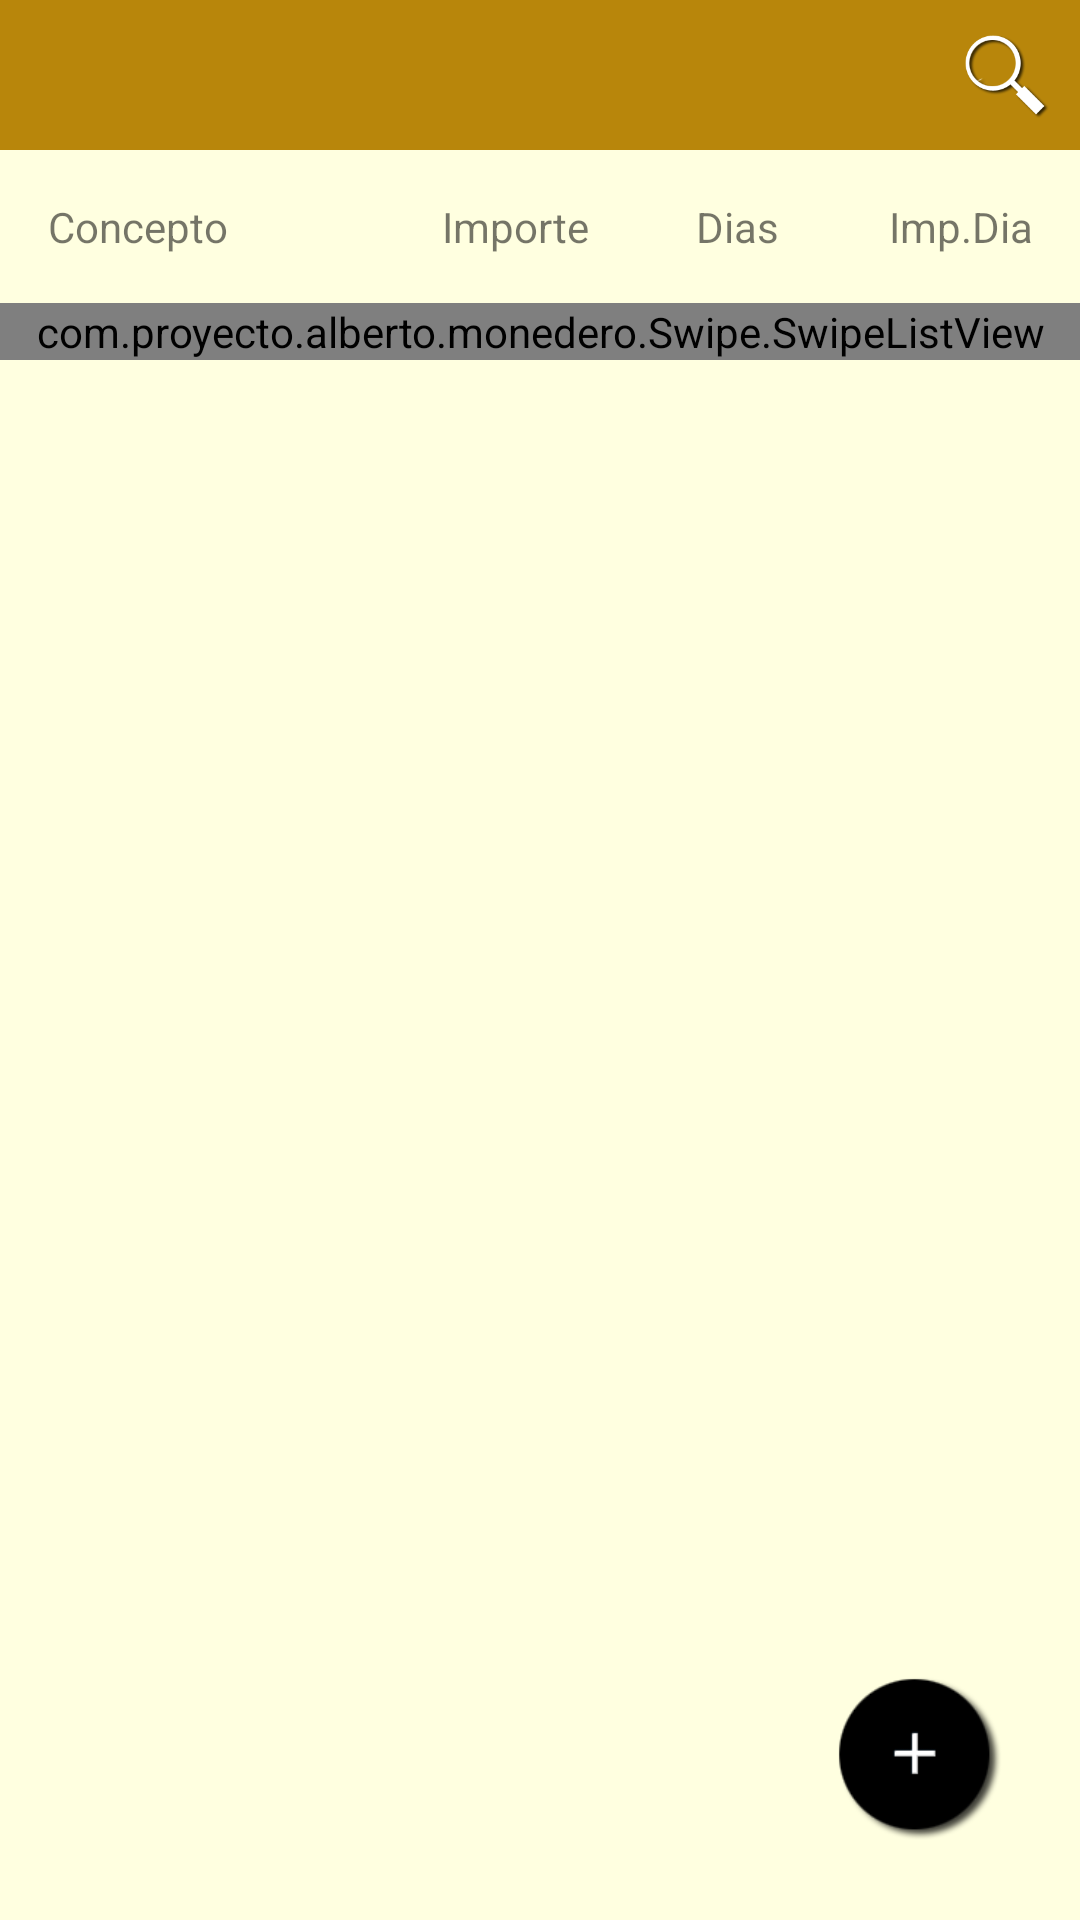

Where icons sit on this 1080px x 1920px app screen, as [x1=x1, y1=y1, x2=x2, y2=y2]:
anyadir: [x1=839, y1=1679, x2=999, y2=1837]
lupa: [x1=965, y1=35, x2=1047, y2=117]
